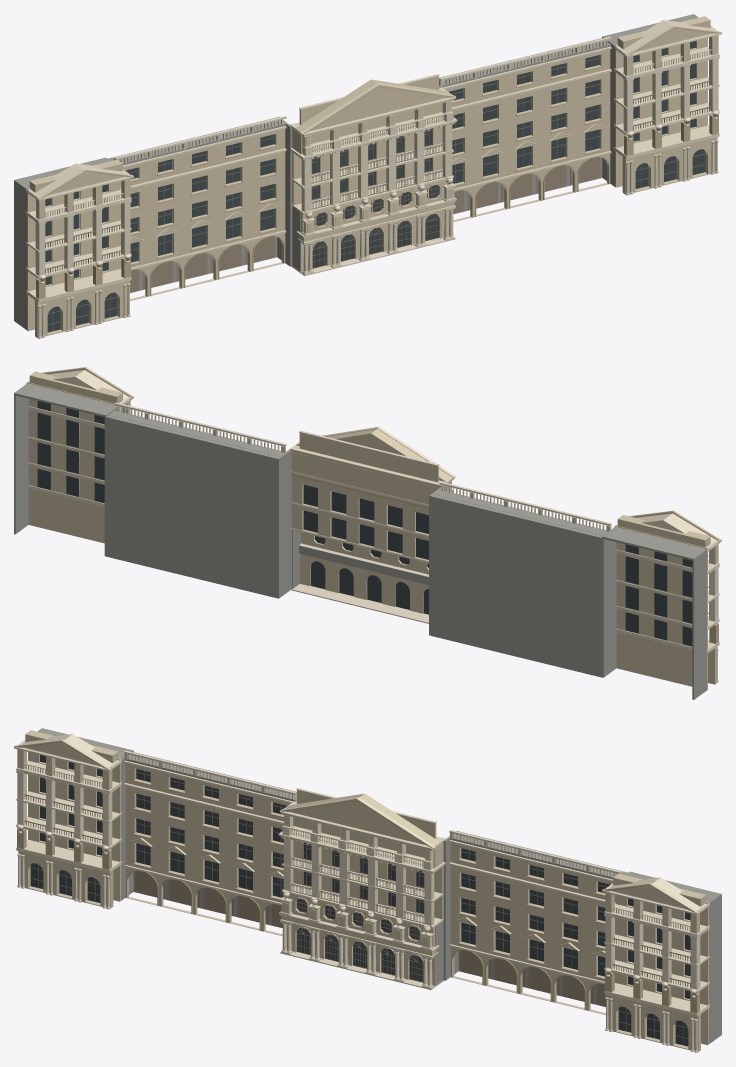
File: jingan-country-hospital-garden-front-raw.glb
The picture shows the model from 3 angles, top to bottom: view 1: azimuth 30°, elevation 25°; view 2: azimuth 150°, elevation 25°; view 3: azimuth 330°, elevation 25°; orthographic projection.
Parts seen in each view (by area): view 1: 宏恩医院历史主楼花园立面（三处山花与两段拱廊窗墙）; view 2: 宏恩医院历史主楼花园立面（三处山花与两段拱廊窗墙）; view 3: 宏恩医院历史主楼花园立面（三处山花与两段拱廊窗墙）.
Part boxes in pixels (x1=…): 宏恩医院历史主楼花园立面（三处山花与两段拱廊窗墙）: x1=14, y1=14, x2=721, y2=338; 宏恩医院历史主楼花园立面（三处山花与两段拱廊窗墙）: x1=14, y1=367, x2=721, y2=699; 宏恩医院历史主楼花园立面（三处山花与两段拱廊窗墙）: x1=14, y1=728, x2=721, y2=1052.
Bounding box in the file's own units: 77.91 × 18.8 × 5.34.
